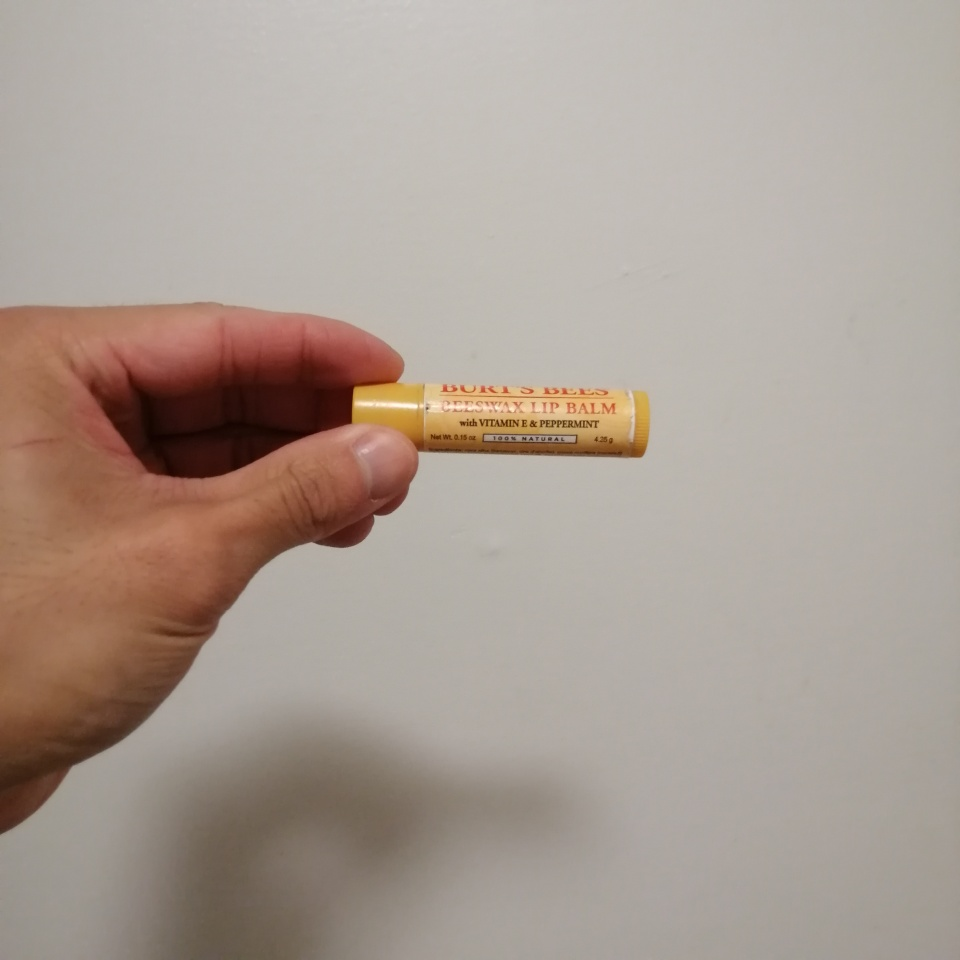chapstick: (351, 382, 651, 459)
